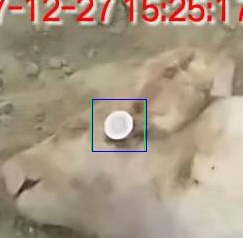text: (91, 99, 144, 151)
